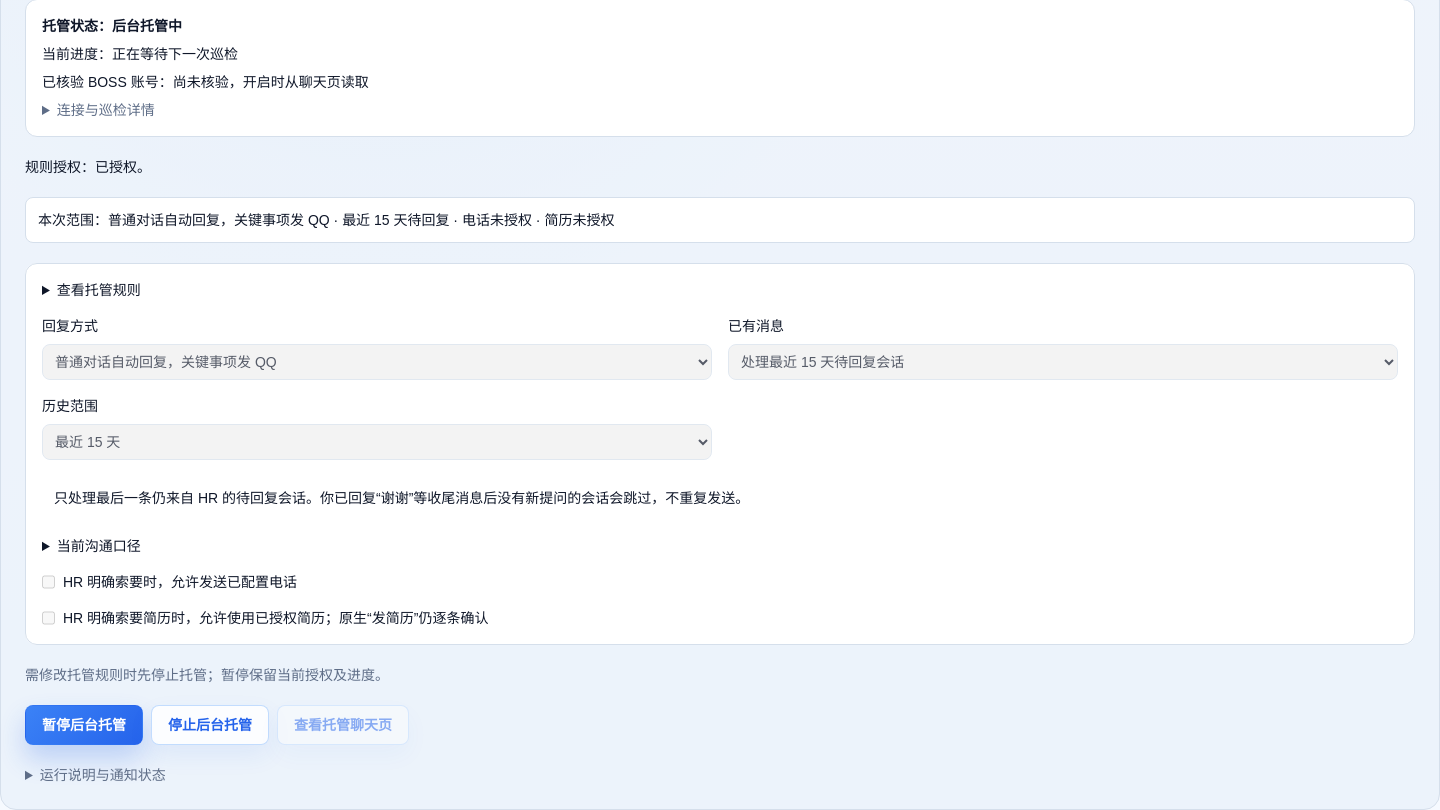
Scenario: revokes backend authorization on stop even when the extension does not respond
(page scrolled)
Check: the text "托管状态：后台托管中" is shown, box [42, 18, 182, 34]
Click the button "停止后台托管" at point(210, 725), box [151, 705, 269, 745]
(page scrolled)
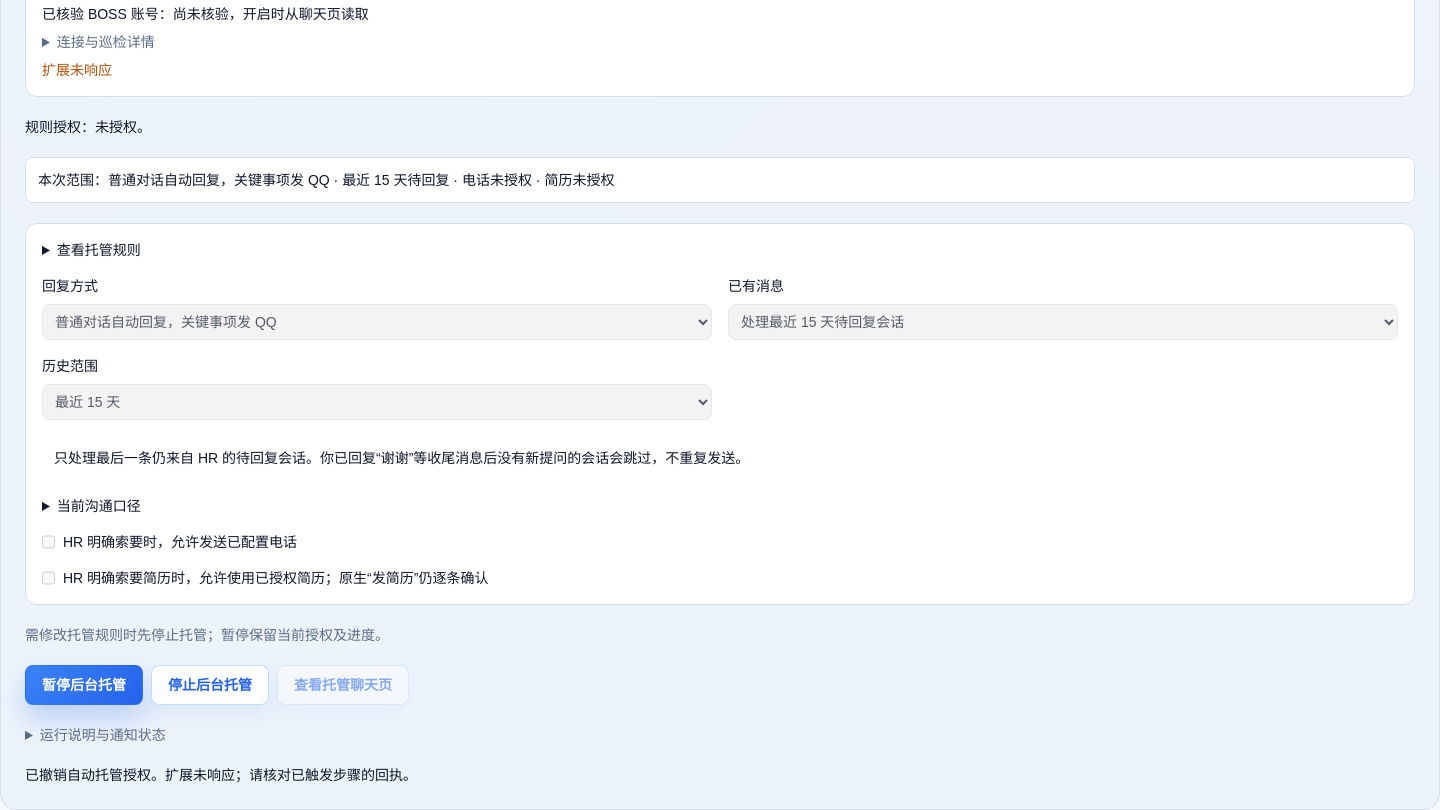
Check: the text "已撤销自动托管授权。扩展未响应；请核对已触发步骤的回执。" is shown, box [25, 767, 417, 783]
Check: the text "托管状态：后台托管中" is gone
